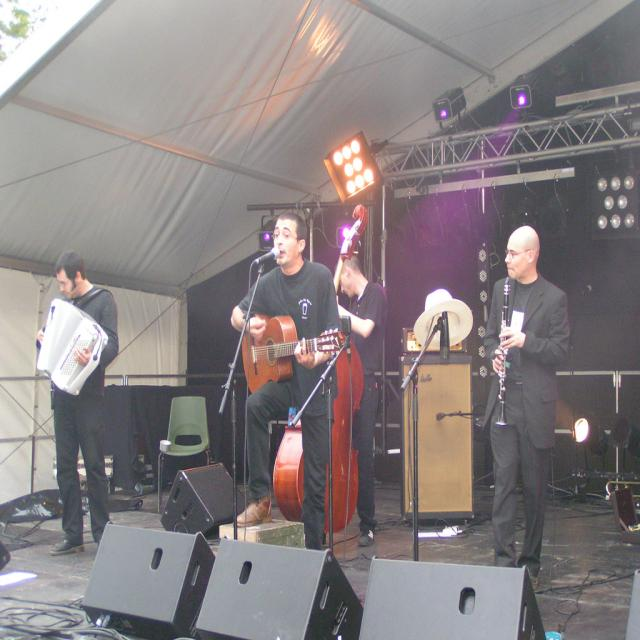clarinet: (493, 274, 513, 428)
guitar: (238, 313, 348, 395)
